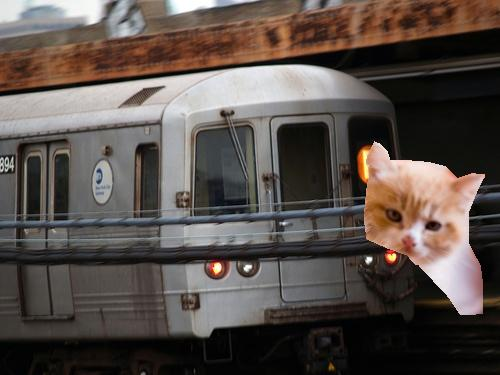tampered: (365, 142, 485, 315)
